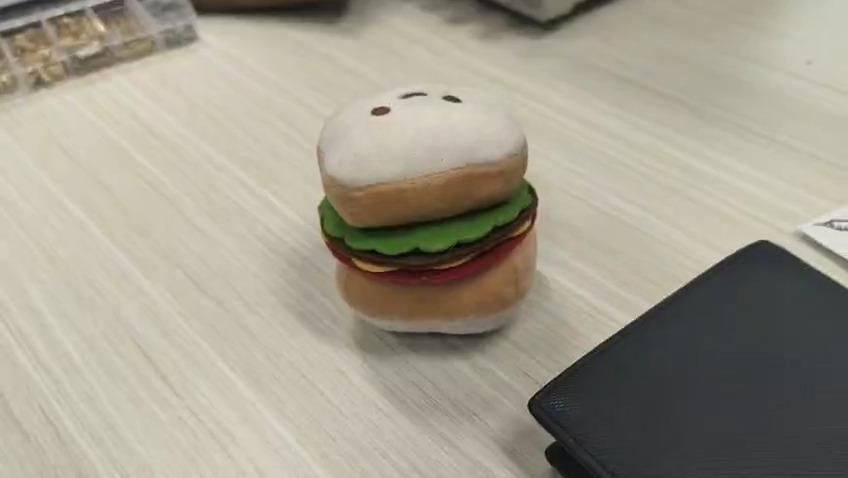objects: (317, 81, 538, 334)
